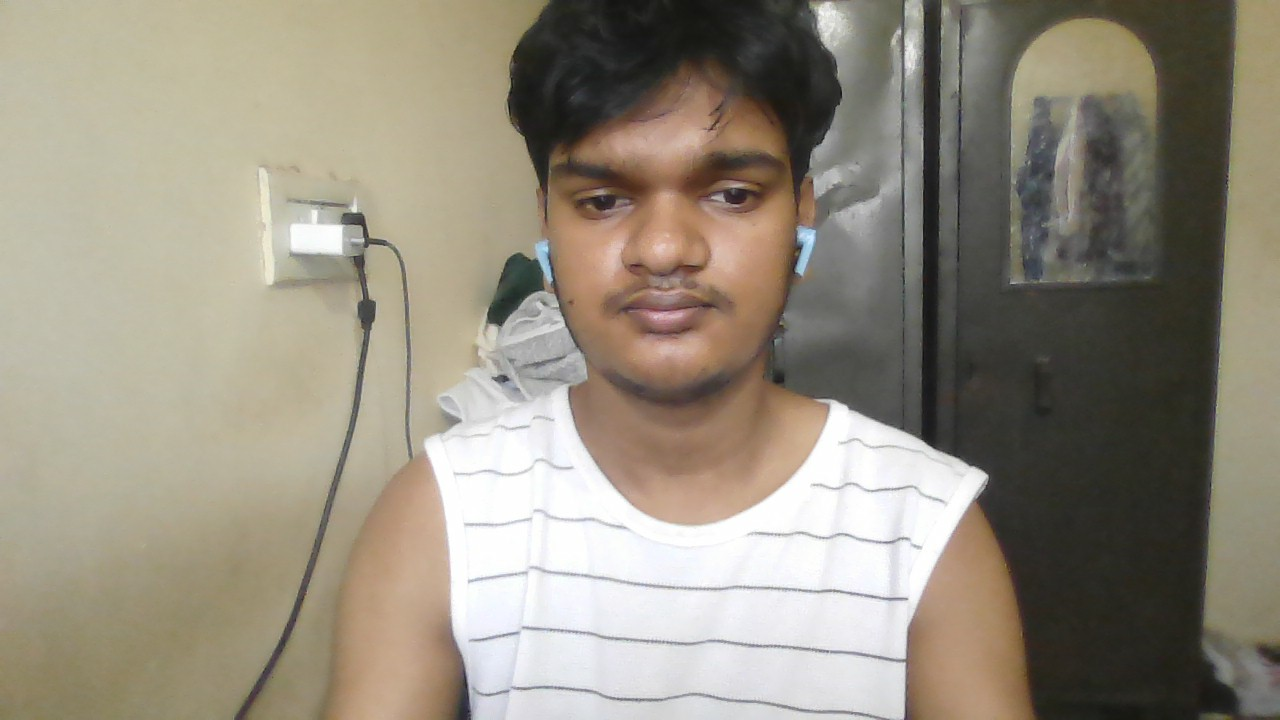earphone: (533, 237, 556, 285), (798, 224, 817, 279)
